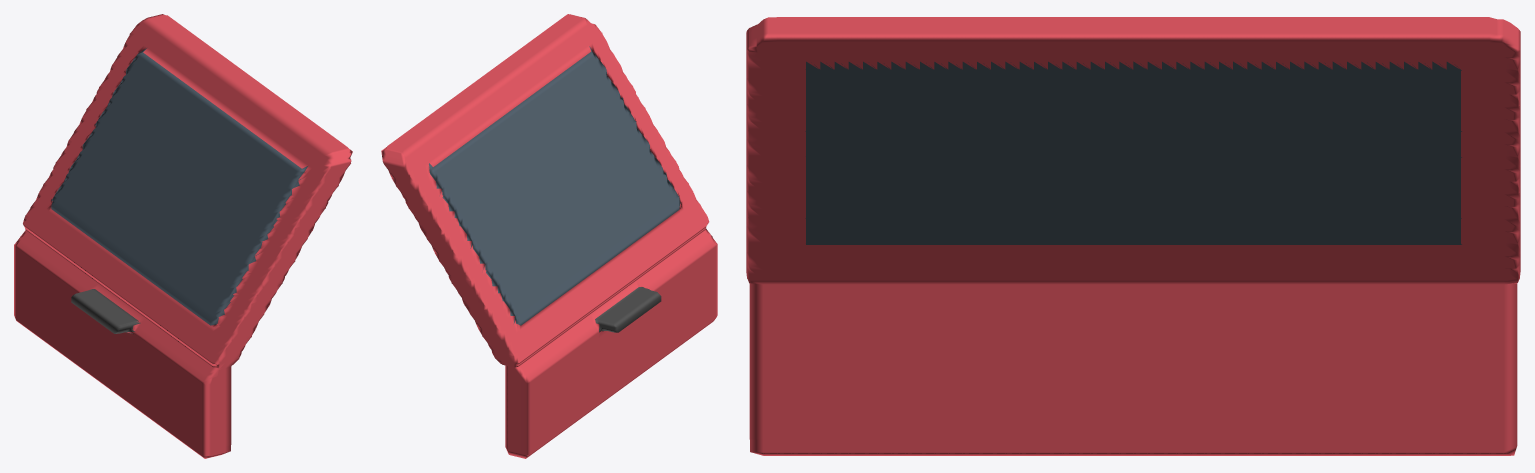
Rendered from tailgate.glb.
3 renders of one model, left to right at view 1: azimuth 30°, elevation 25°; view 2: azimuth 150°, elevation 25°; view 3: azimuth 270°, elevation 25°, orthographic. The views are drawn at different scales.
Visible parts, largest first — view 1: tailgate; view 2: tailgate; view 3: tailgate.
Part boxes in pixels (bbox=[...]): tailgate: bbox=[14, 14, 352, 458]; tailgate: bbox=[381, 14, 717, 458]; tailgate: bbox=[746, 17, 1520, 455].
Size of the model in its own units: 5.85 by 9.2 by 11.8.
